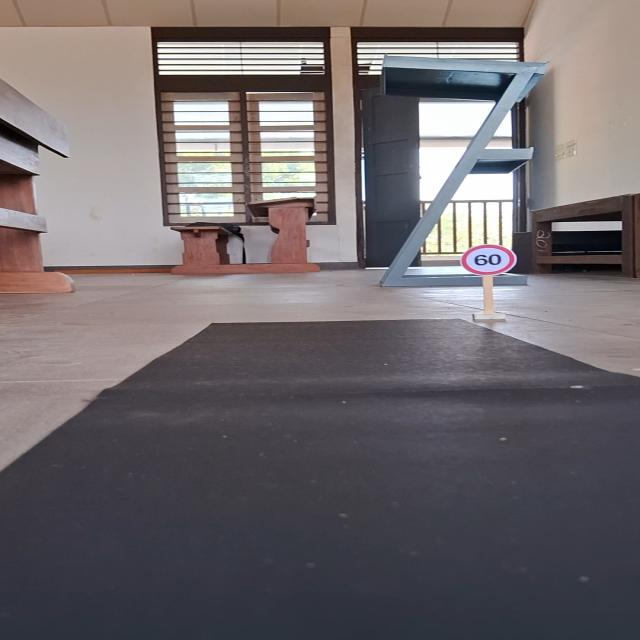Speed60: (459, 244, 518, 277)
